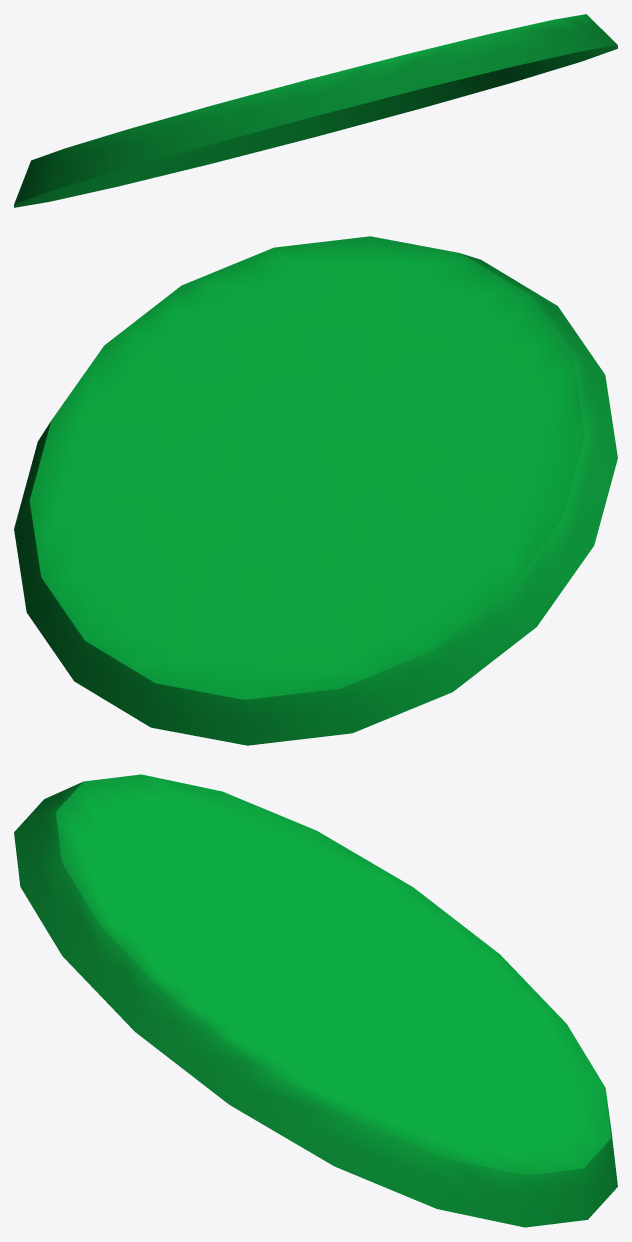
File: led_right.obj
3 views of the same model, one above another, from view 1: azimuth 30°, elevation 25°; view 2: azimuth 150°, elevation 25°; view 3: azimuth 270°, elevation 25° (orthographic). The views are drawn at different scales.
Parts seen in each view (by area): view 1: r_led; view 2: r_led; view 3: r_led.
Boxes of the visible parts, x1,y1,x2,y2 form: r_led: (14,14,617,207); r_led: (14,236,617,745); r_led: (14,774,617,1227).
Size of the model in its own units: 0.00184 by 0.000996 by 0.00159.
Materials: 1 (1 with a texture image).
